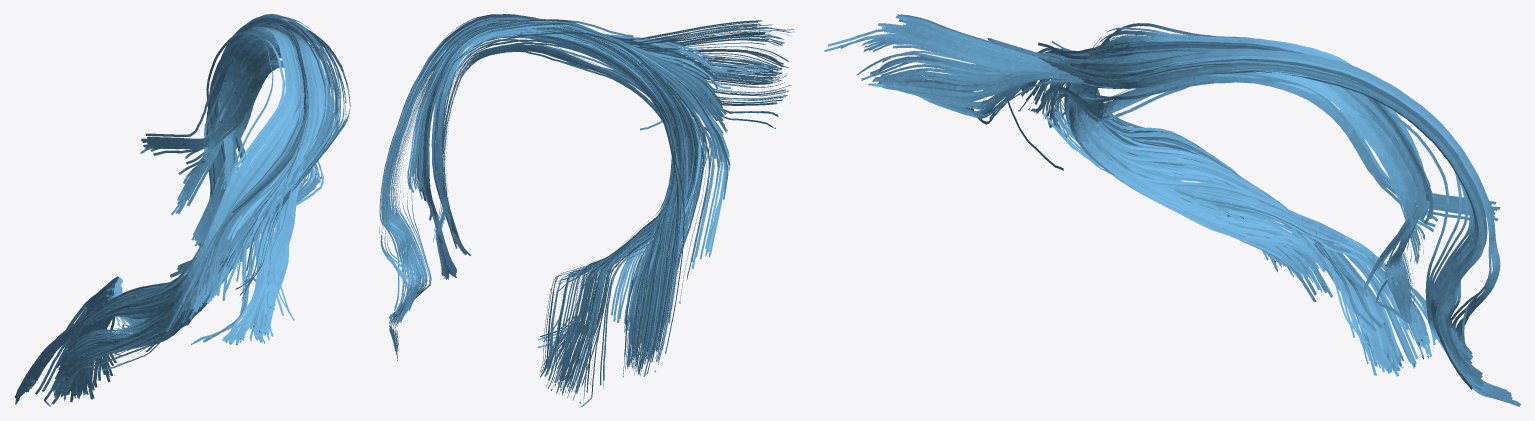
3 views of the same model, side by side, from view 1: azimuth 30°, elevation 25°; view 2: azimuth 150°, elevation 25°; view 3: azimuth 270°, elevation 25° (orthographic). The views are drawn at different scales.
Parts seen in each view (by area): view 1: tracts; view 2: tracts; view 3: tracts.
Boxes of the visible parts, x1,y1,x2,y2 form: tracts: (14,14,350,406); tracts: (379,14,794,406); tracts: (824,14,1520,406).
Size of the model in its own units: 37.55 by 47.96 by 70.73.
